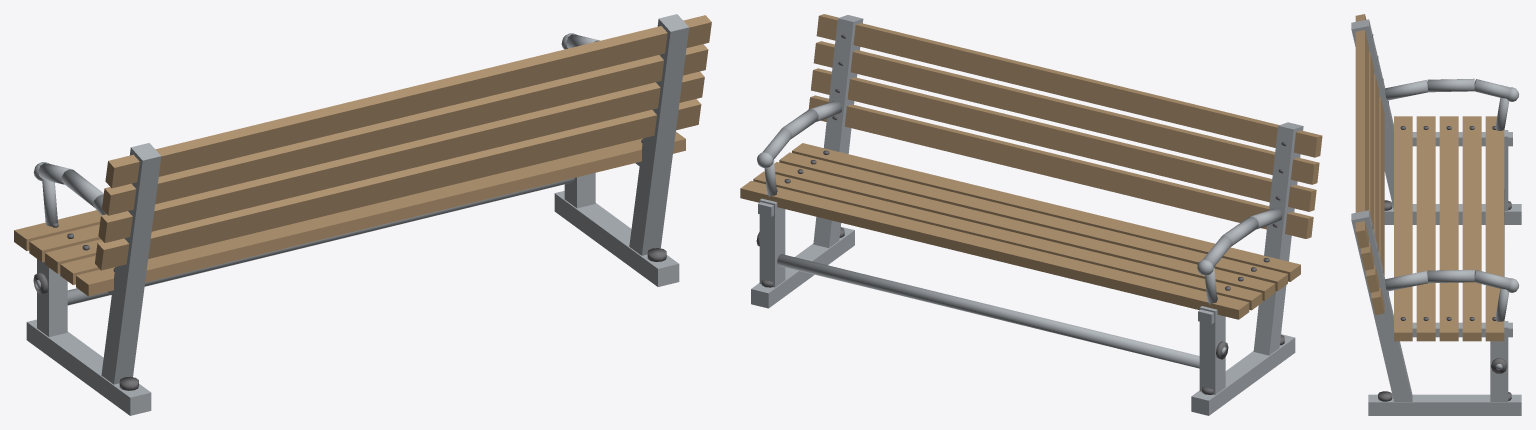
File: park_bench.glb
The picture shows the model from 3 angles, left to right: view 1: azimuth 30°, elevation 25°; view 2: azimuth 150°, elevation 25°; view 3: azimuth 270°, elevation 25°; orthographic projection. The views are drawn at different scales.
Parts seen in each view (by area): view 1: Merged_PropsWood, Merged_PropsMetal, Merged_RoofDark; view 2: Merged_PropsWood, Merged_PropsMetal, Merged_RoofDark; view 3: Merged_PropsWood, Merged_PropsMetal, Merged_RoofDark.
Boxes of the visible parts, x1=… form: Merged_PropsWood: x1=14, y1=15, x2=711, y2=296; Merged_PropsMetal: x1=26, y1=14, x2=689, y2=415; Merged_RoofDark: x1=33, y1=139, x2=666, y2=390; Merged_PropsWood: x1=740, y1=14, x2=1322, y2=319; Merged_PropsMetal: x1=751, y1=15, x2=1303, y2=415; Merged_RoofDark: x1=756, y1=34, x2=1286, y2=394; Merged_PropsWood: x1=1355, y1=14, x2=1504, y2=341; Merged_PropsMetal: x1=1351, y1=19, x2=1521, y2=415; Merged_RoofDark: x1=1372, y1=34, x2=1511, y2=401.
Bounding box in the file's own units: 2.4 × 1.03 × 0.7987.
